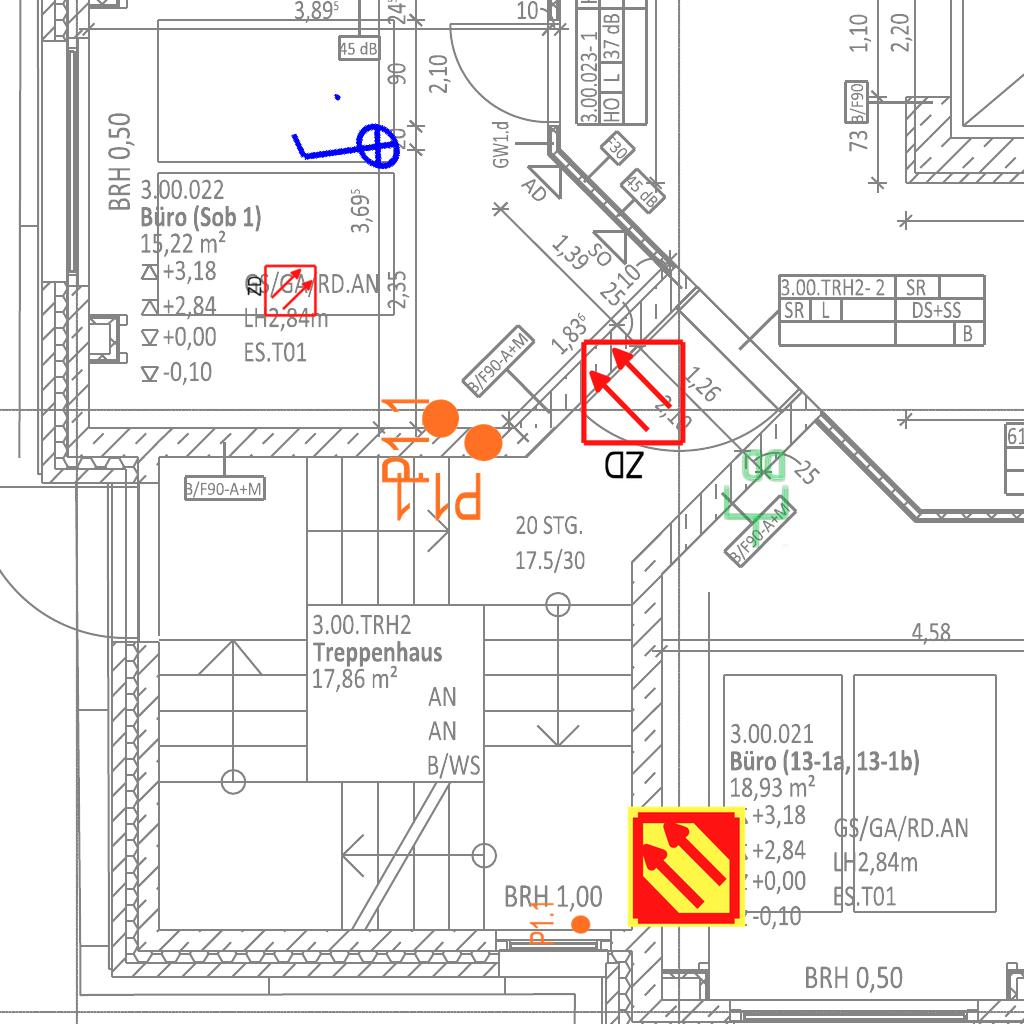ASR_Ansaugrauchmelder: (624, 804, 749, 929)
Ausschalter_beleuchtet: (274, 76, 420, 224)
Datenanschluss_zweifach: (722, 447, 791, 550)
Downlight_LED_Einbauleuchten_Flur: (378, 393, 506, 486), (391, 396, 484, 524), (528, 900, 592, 946)
ZD_Melder_in_Zwischendecke_mit_Revisionsoeffnung_mind_40_x_40_cm: (578, 337, 692, 486), (244, 263, 318, 320)
